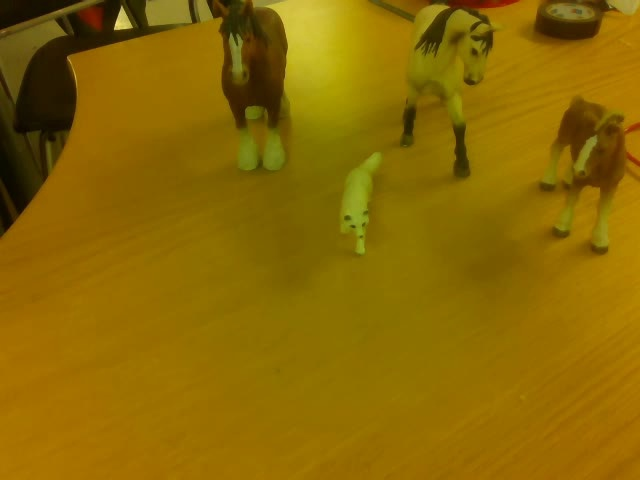toy: (396, 1, 502, 181), (536, 91, 624, 256), (209, 1, 290, 176), (338, 151, 383, 255)
